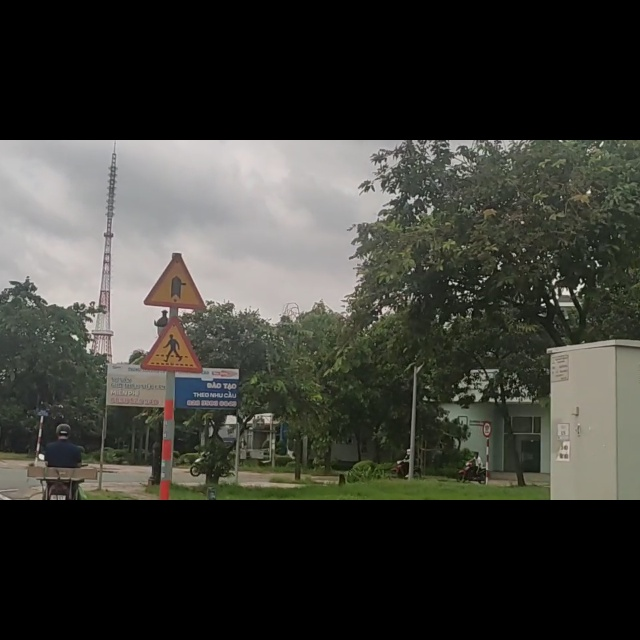bien_nguy_hiem: (141, 312, 206, 416), (143, 201, 209, 300)
